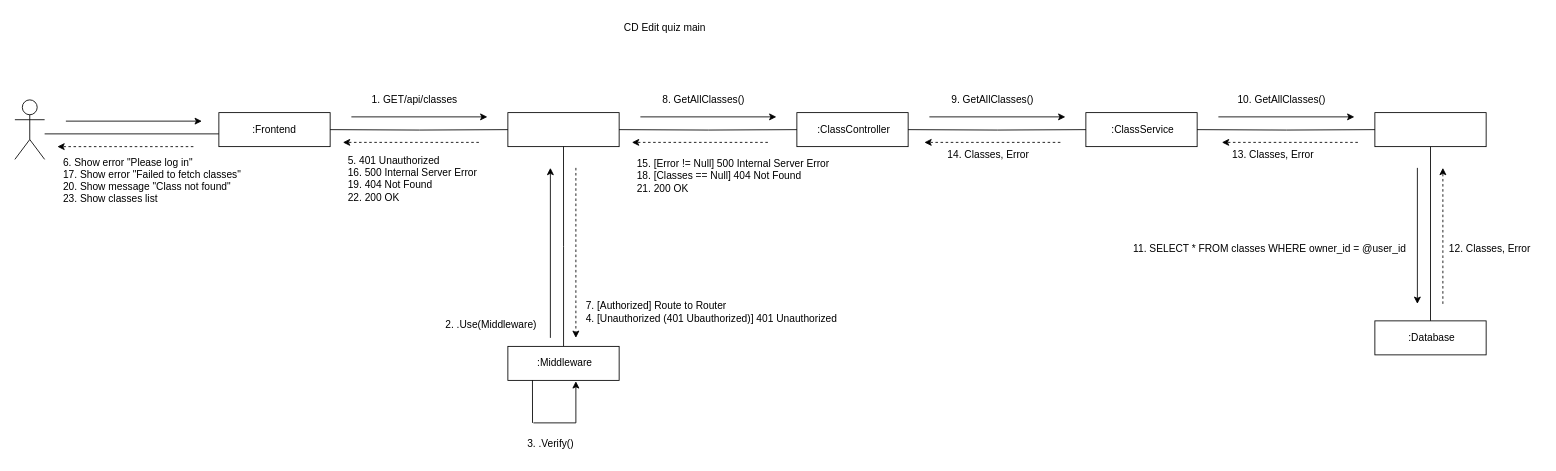
This 1556x471 diagram has some shape labels left out. Here are the shapes that lost their labels. From the top down, the box of each, then its label:
(14, 99, 45, 159): User
(507, 112, 619, 147): :Router
(1374, 112, 1486, 147): :ClassRepository
